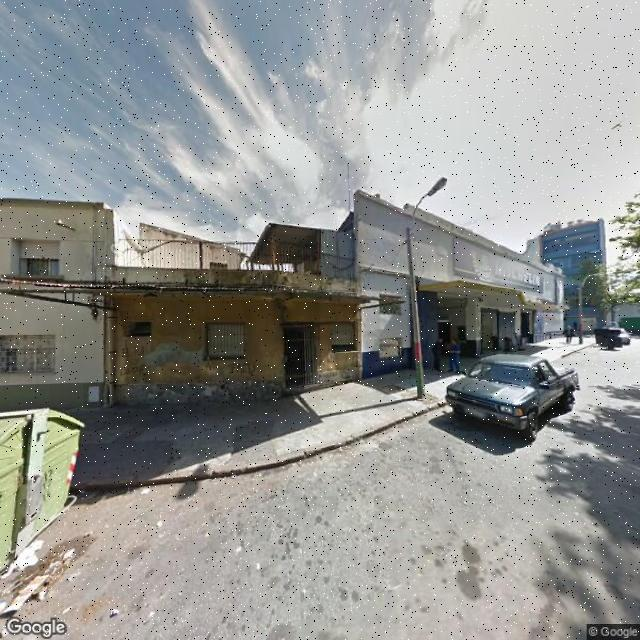garbage container: (1, 391, 99, 578)
